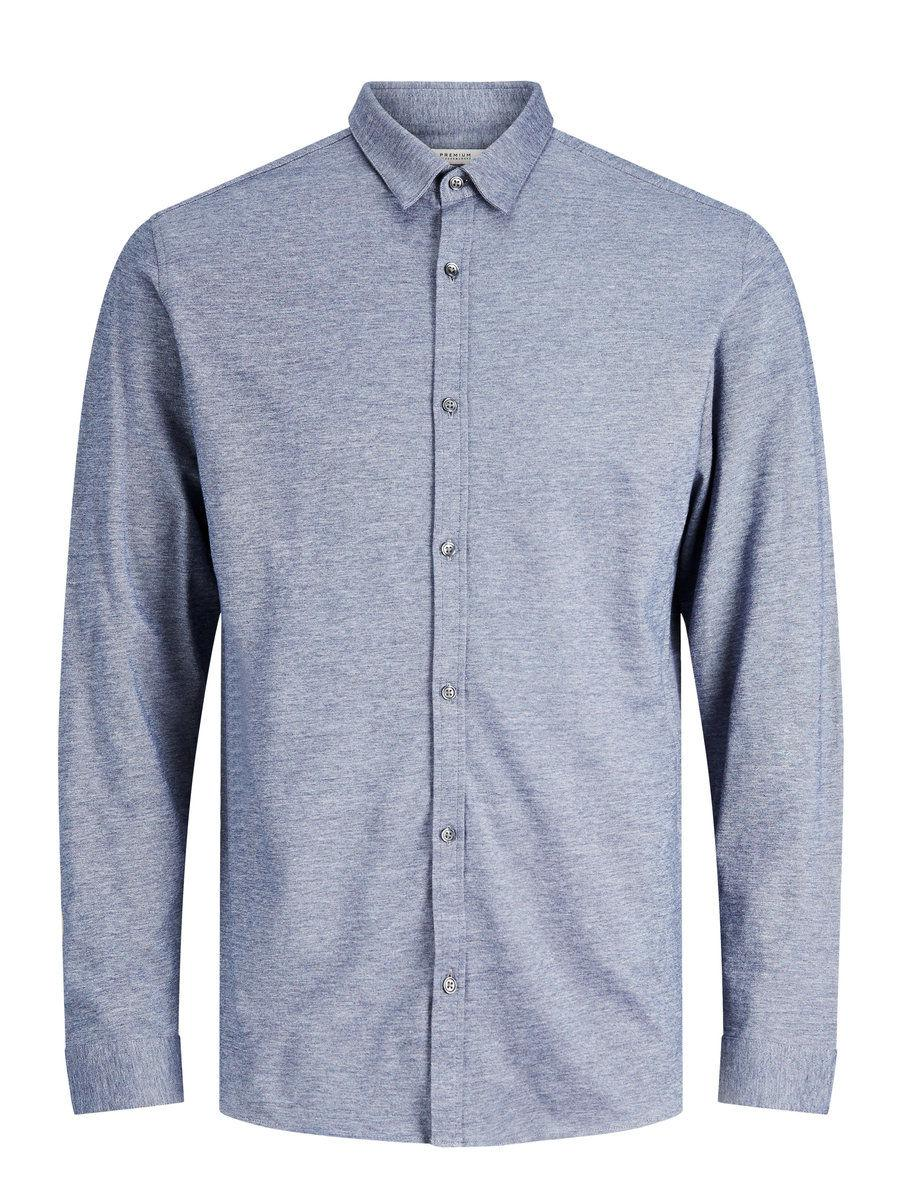teeshirt: (43, 73, 858, 1154)
